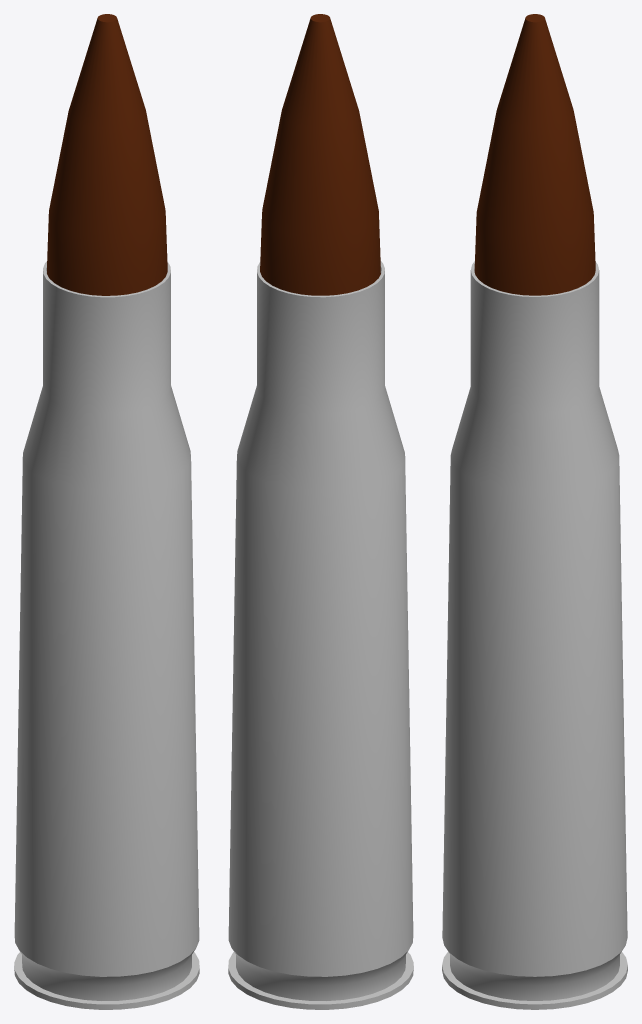
Rendered from bullet.obj.
The picture shows the model from 3 angles, left to right: view 1: azimuth 30°, elevation 25°; view 2: azimuth 150°, elevation 25°; view 3: azimuth 270°, elevation 25°; orthographic projection.
Parts seen in each view (by area): view 1: Cylinder.002, Cylinder.003; view 2: Cylinder.002, Cylinder.003; view 3: Cylinder.002, Cylinder.003.
Boxes of the visible parts, bbox=[...] form: Cylinder.002: bbox=[14, 261, 199, 1009]; Cylinder.003: bbox=[47, 14, 167, 295]; Cylinder.002: bbox=[228, 261, 413, 1009]; Cylinder.003: bbox=[260, 14, 380, 295]; Cylinder.002: bbox=[442, 261, 627, 1009]; Cylinder.003: bbox=[474, 14, 595, 295].
Bounding box in the file's own units: 1.17 × 6.61 × 1.17.
